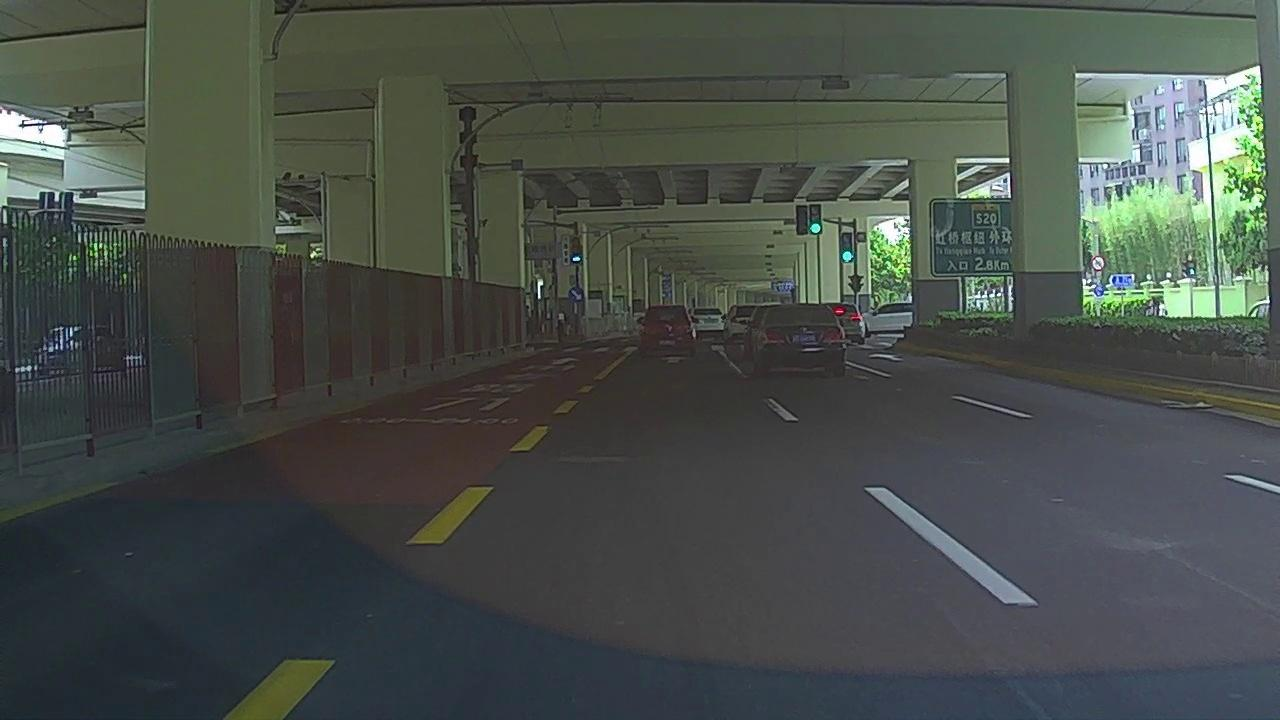traffic_light: (808, 204, 822, 234), (795, 206, 807, 235), (841, 234, 853, 263)
